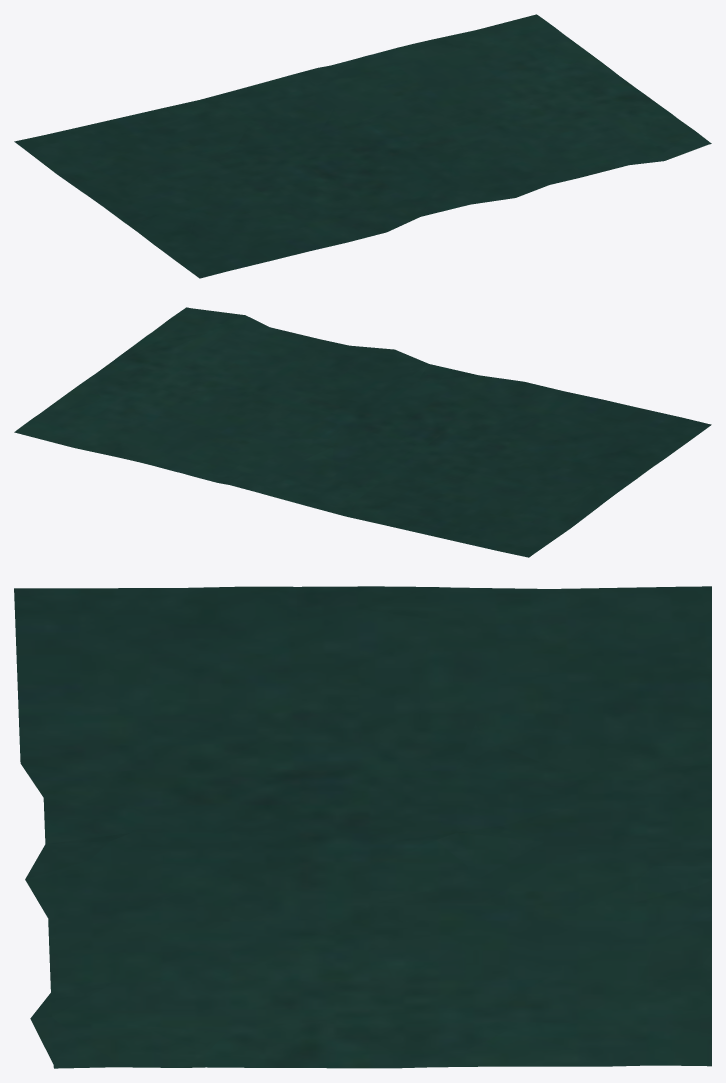
3 views of the same model, one above another, from view 1: azimuth 30°, elevation 25°; view 2: azimuth 150°, elevation 25°; view 3: azimuth 270°, elevation 25° (orthographic). The views are drawn at different scales.
Size of the model in its own units: 52.22 by 0.4345 by 32.15.
Materials: 2 (2 with a texture image).
